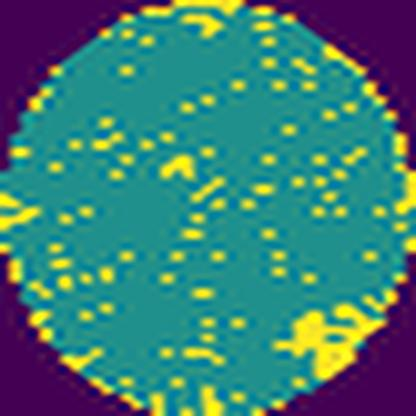Edge-Loc: (270, 294, 390, 384)
